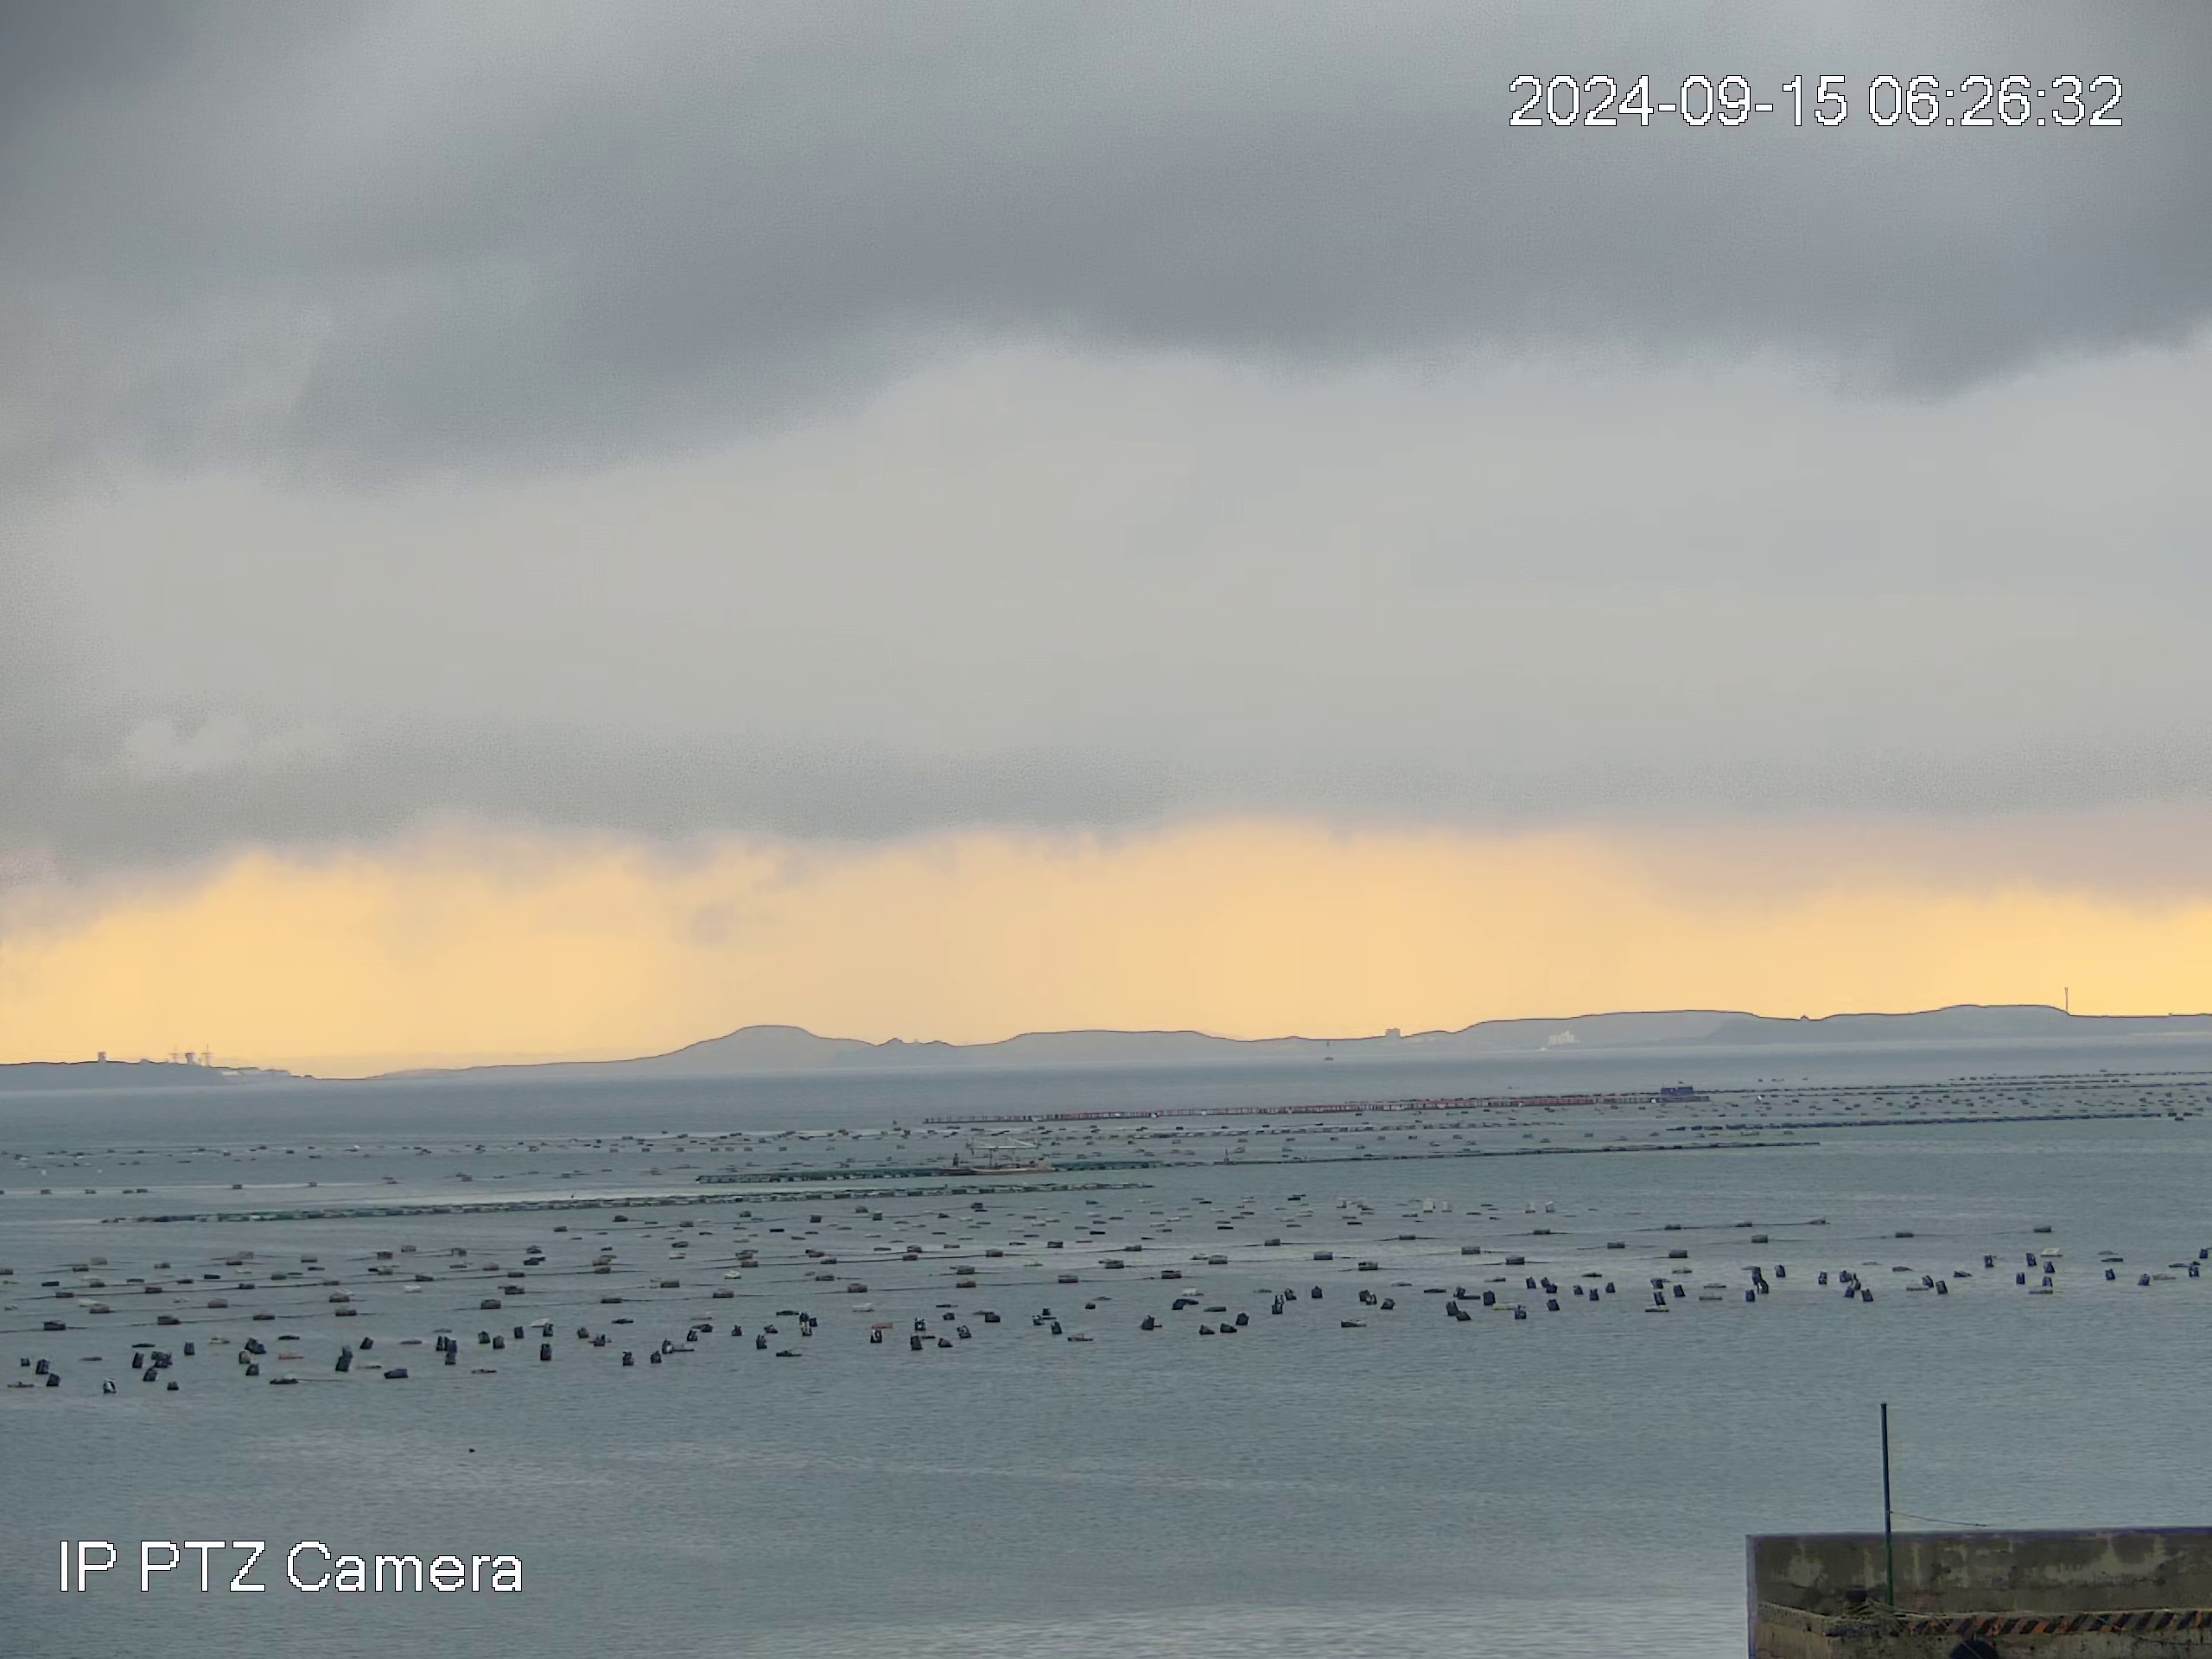boat: (964, 1132, 1059, 1176)
